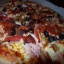olives: (25, 15, 39, 25), (44, 31, 55, 43), (21, 29, 36, 35), (10, 24, 16, 37)
pizza: (1, 1, 64, 63)
